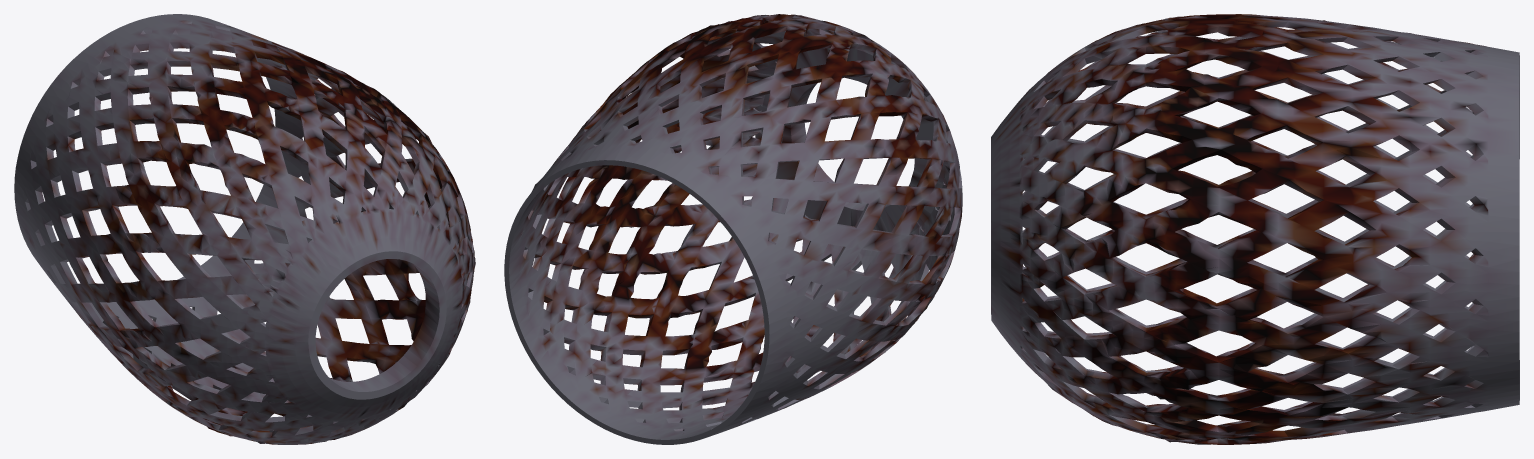
The model's file is lamp_shade_14_final200.obj.
The picture shows the model from 3 angles, left to right: view 1: azimuth 30°, elevation 25°; view 2: azimuth 150°, elevation 25°; view 3: azimuth 270°, elevation 25°; orthographic projection. The views are drawn at different scales.
Size of the model in its own units: 1.21 by 1.21 by 1.49.
